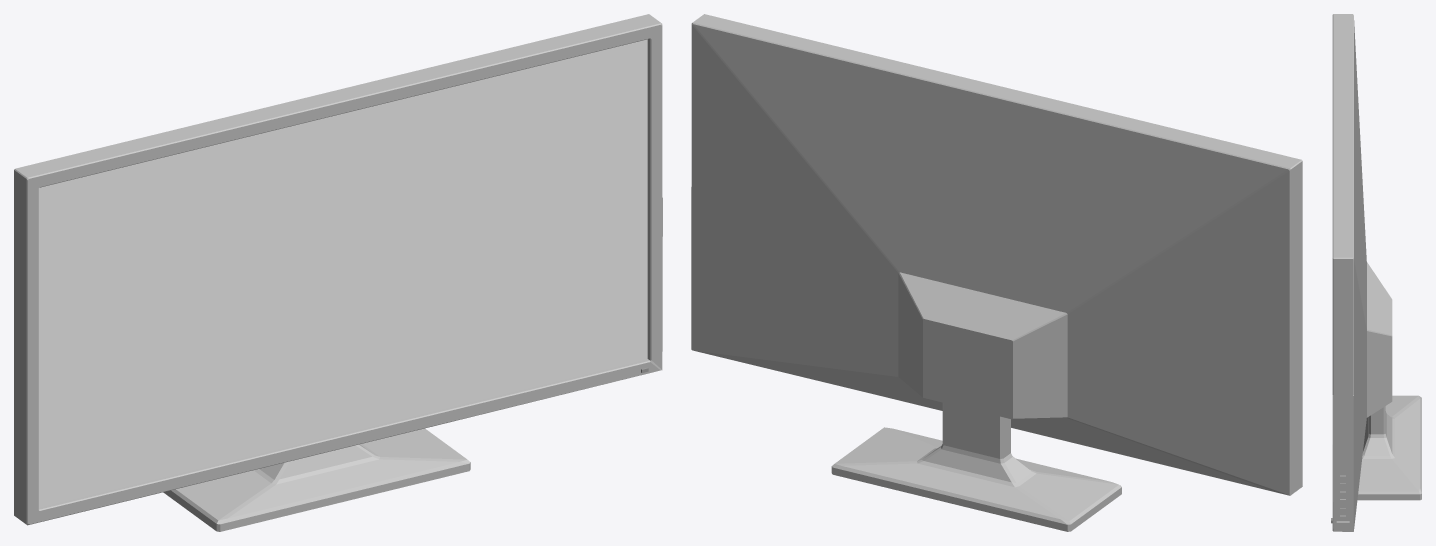
The model's file is BigScreenMonitor.fbx.
3 renders of one model, left to right at view 1: azimuth 30°, elevation 25°; view 2: azimuth 150°, elevation 25°; view 3: azimuth 270°, elevation 25°, orthographic. The views are drawn at different scales.
Parts seen in each view (by area): view 1: BigScreenMonitor, tablestand; view 2: BigScreenMonitor, tablestand; view 3: BigScreenMonitor, tablestand.
Part boxes in pixels (x1,y1,x2,y2): BigScreenMonitor: (14,14,662,525); tablestand: (163,428,470,531); BigScreenMonitor: (691,14,1302,495); tablestand: (831,402,1121,531); BigScreenMonitor: (1332,14,1392,531); tablestand: (1357,395,1421,500).
Bounding box in the file's own units: 1.43 × 0.8632 × 0.2252.
